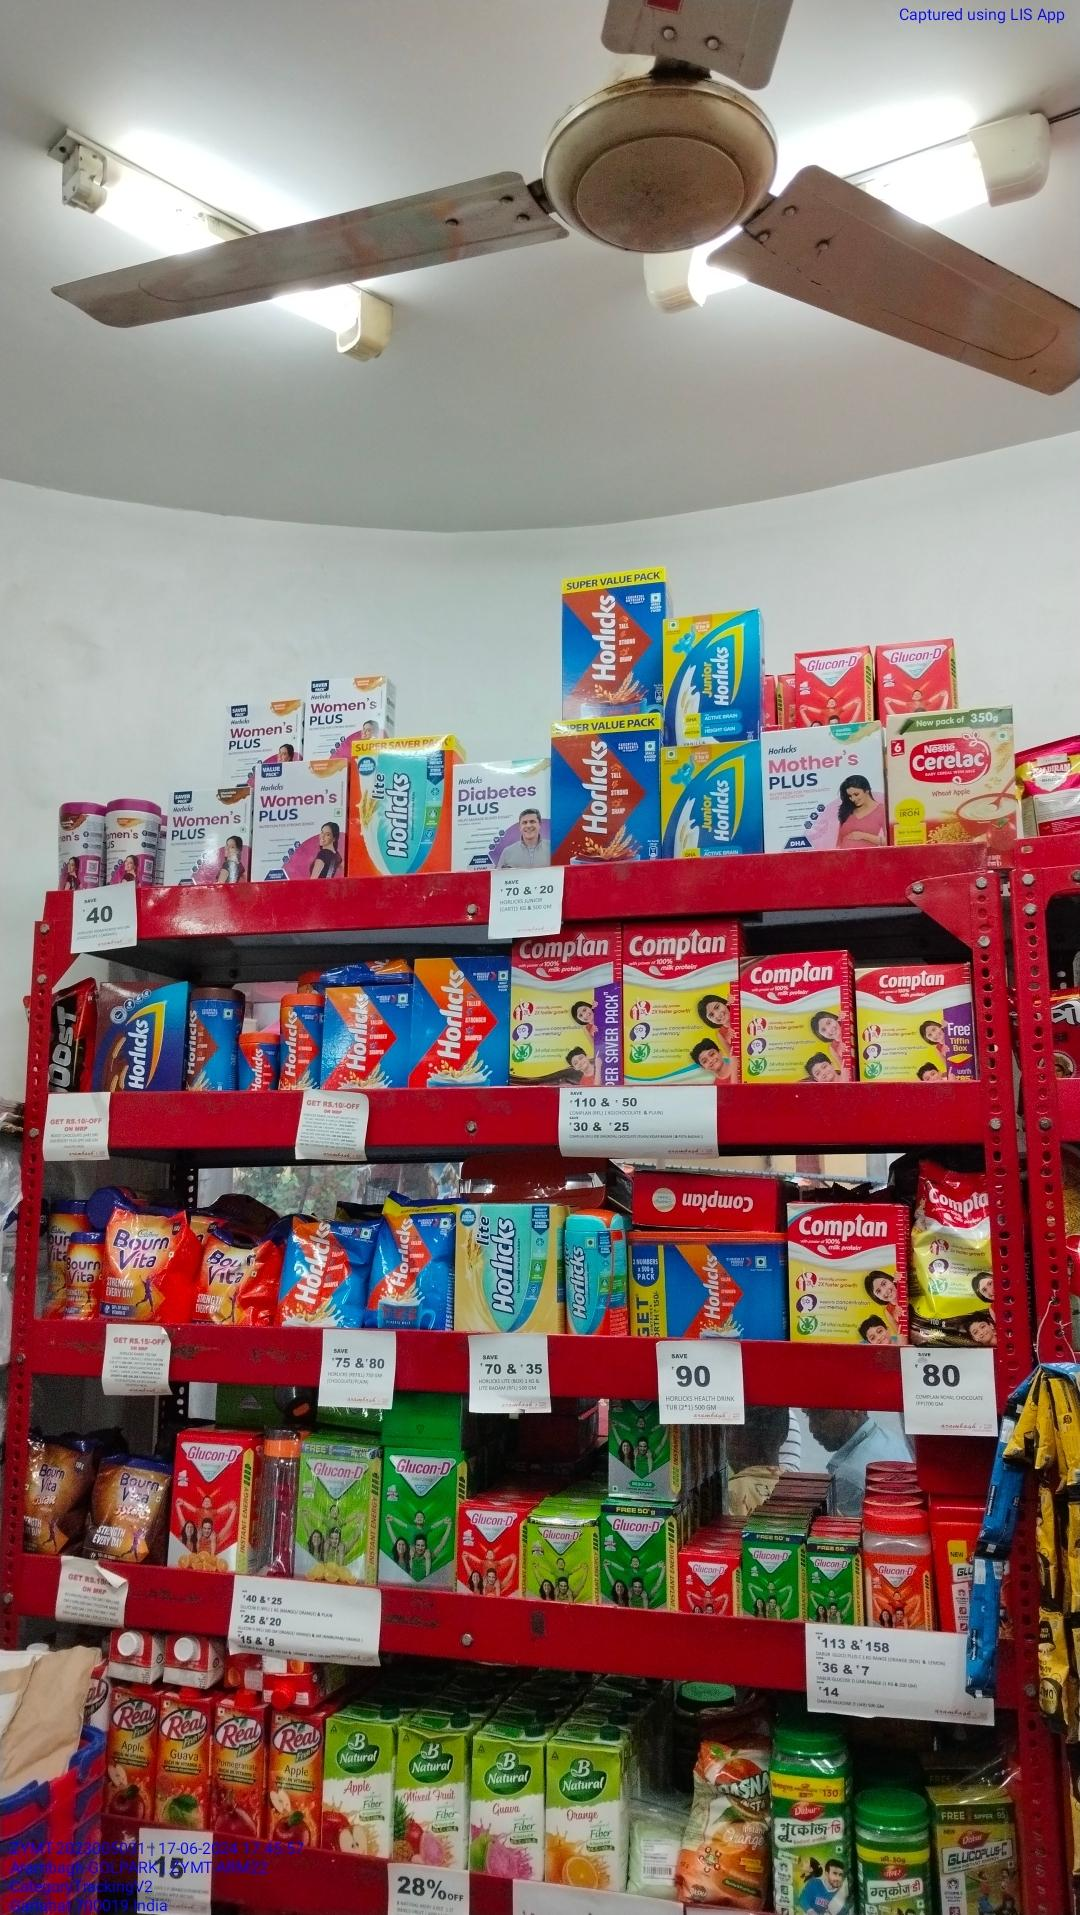BOURN_VITA_500_G_JAR: (63, 1231, 101, 1322)
BOURN_VITA_500_G_POUCH: (88, 1452, 162, 1563)
BOURN_VITA_750_G_POUCH: (104, 1201, 191, 1321)
COMPLAN_CHOCOLATE_1_KG_PACK: (510, 931, 621, 1085)
COMPLAN_CHOCOLATE_500_GMS_PACK: (743, 955, 852, 1085)
COMPLAN_CREAMY_CLASSIC_500_G_PACK: (787, 1200, 908, 1342)
COMPLAN_KESAR_BADAM_200_GMS_PACK: (856, 967, 975, 1085)
COMPLAN_RC_POUCH_700_GMS_12: (908, 1161, 993, 1356)
HORLICKS_LITE_REGULAR_MALT_500_GM_JAR: (566, 1209, 609, 1335)
HORLICK_CHOCOLATE_1_KG_PACK: (555, 718, 658, 861), (564, 572, 663, 717)
HORLICK_CHOCOLATE_500_G_JAR: (188, 985, 235, 1089)
HORLICK_CHOCOLATE_750_G_POUCH: (375, 1200, 450, 1327), (285, 1219, 370, 1330)
HORLICK_CLASSIC_MALT_500_G_JAR: (278, 994, 321, 1092)
HORLICK_CLASSIC_MALT_500_G_PACK: (328, 989, 408, 1088)
HORLICK_MALT_1_KG_CONTAINER: (626, 1228, 783, 1343)
